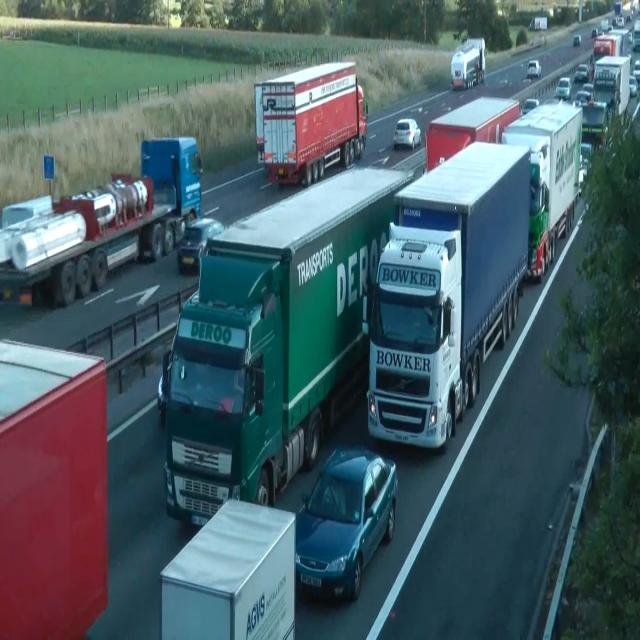bus: (294, 444, 398, 602), (176, 217, 224, 274), (157, 349, 171, 423), (393, 118, 421, 150), (578, 141, 594, 194), (555, 76, 571, 100), (578, 153, 586, 194), (521, 98, 539, 116), (574, 63, 589, 83), (574, 90, 592, 105), (527, 60, 541, 79), (628, 75, 638, 97), (582, 82, 594, 100), (632, 59, 640, 82), (612, 15, 624, 28), (600, 19, 610, 32), (591, 27, 603, 37), (528, 17, 535, 30), (573, 35, 581, 45)
car: (363, 221, 464, 451)
minibus: (157, 152, 425, 527), (364, 140, 532, 450), (0, 134, 202, 308), (0, 337, 109, 639), (159, 497, 296, 639), (500, 99, 582, 282), (254, 59, 368, 188), (425, 96, 521, 172), (590, 21, 640, 87), (592, 54, 630, 124), (450, 36, 486, 89), (528, 16, 547, 30)
